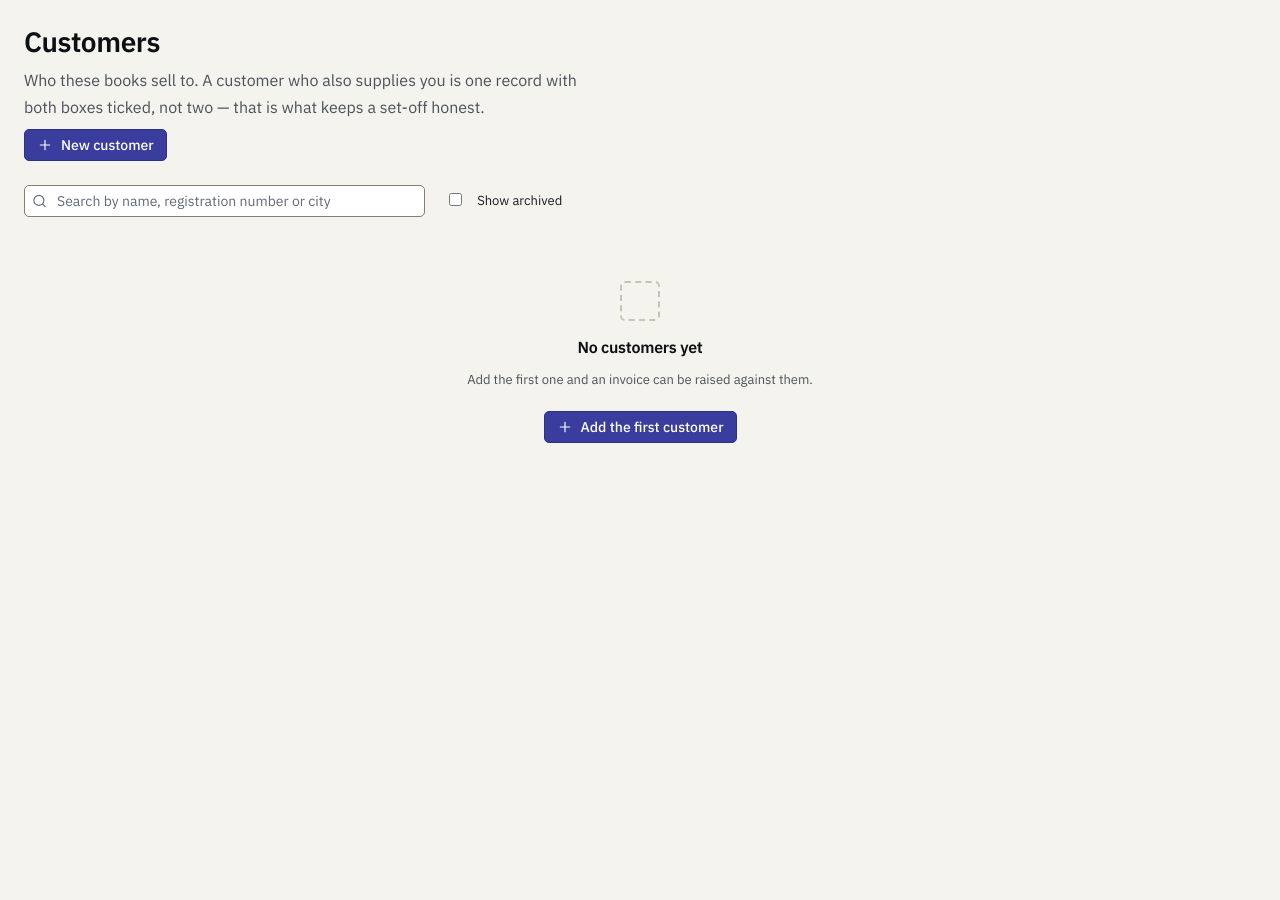
Test: adding › shows the reason a registration number was refused, and keeps the form
The width and height of the screenshot is (1280, 900).
Check: the heading "No customers yet" is shown, box top-left (577, 337), bottom-right (703, 357)
Click the button "New customer".
click(95, 145)  # box top-left (24, 129), bottom-right (167, 161)
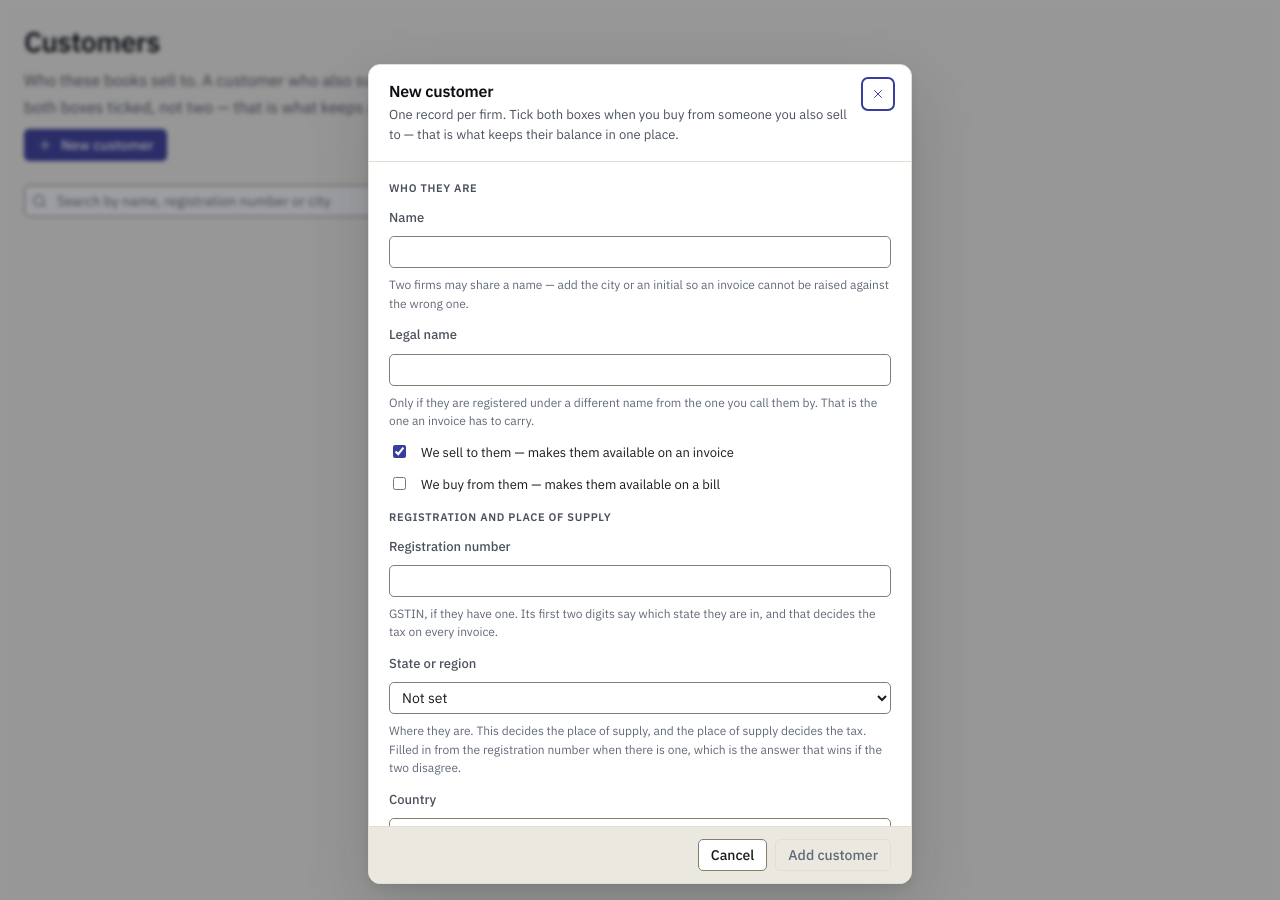
Type "Bharat Steel" into the field labelled "Name".
click(640, 252); type("Bharat Steel")  # box top-left (389, 236), bottom-right (891, 268)
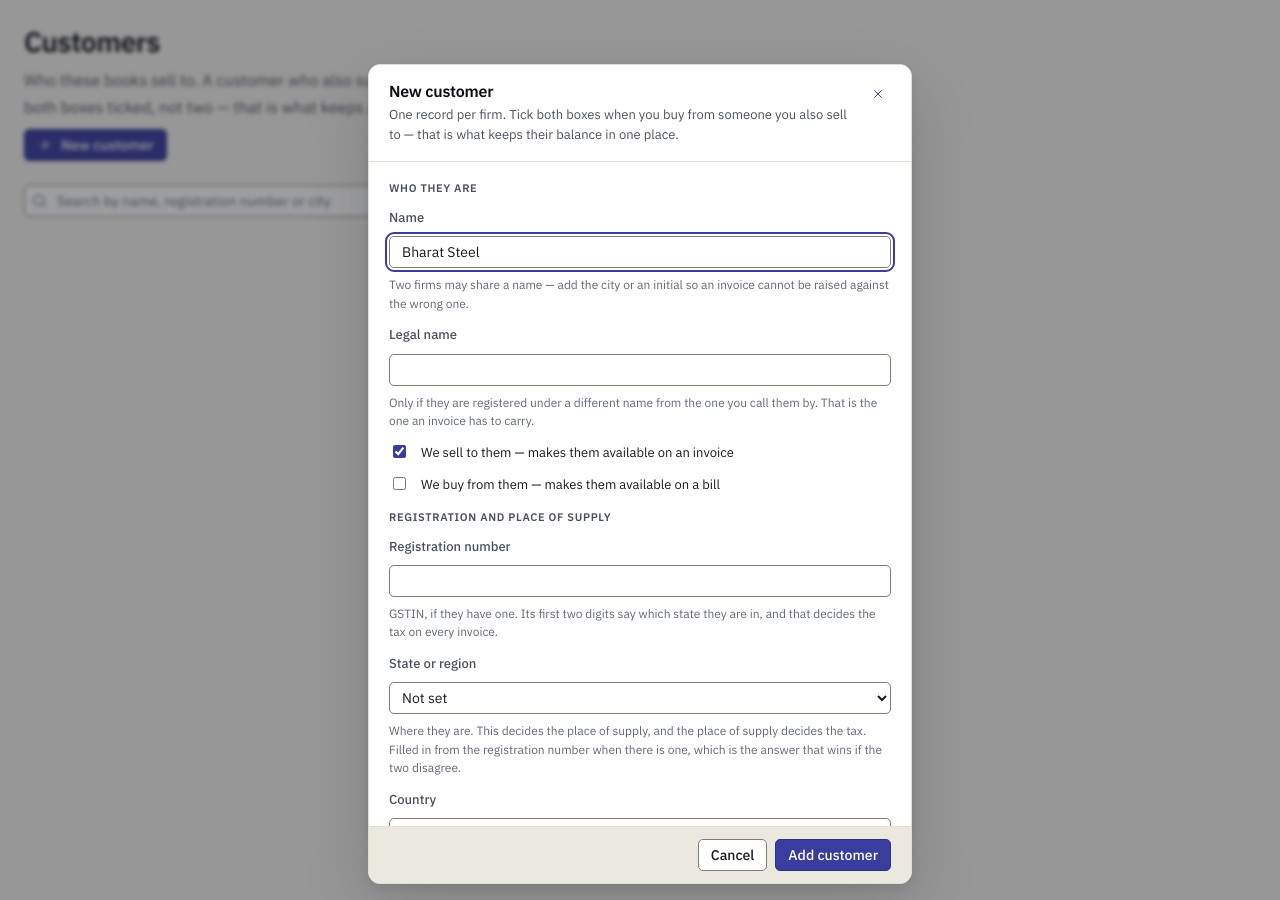
Type "33AABCC1234D1ZZ" into the field labelled "Registration number".
click(640, 581); type("33AABCC1234D1ZZ")  # box top-left (389, 565), bottom-right (891, 597)
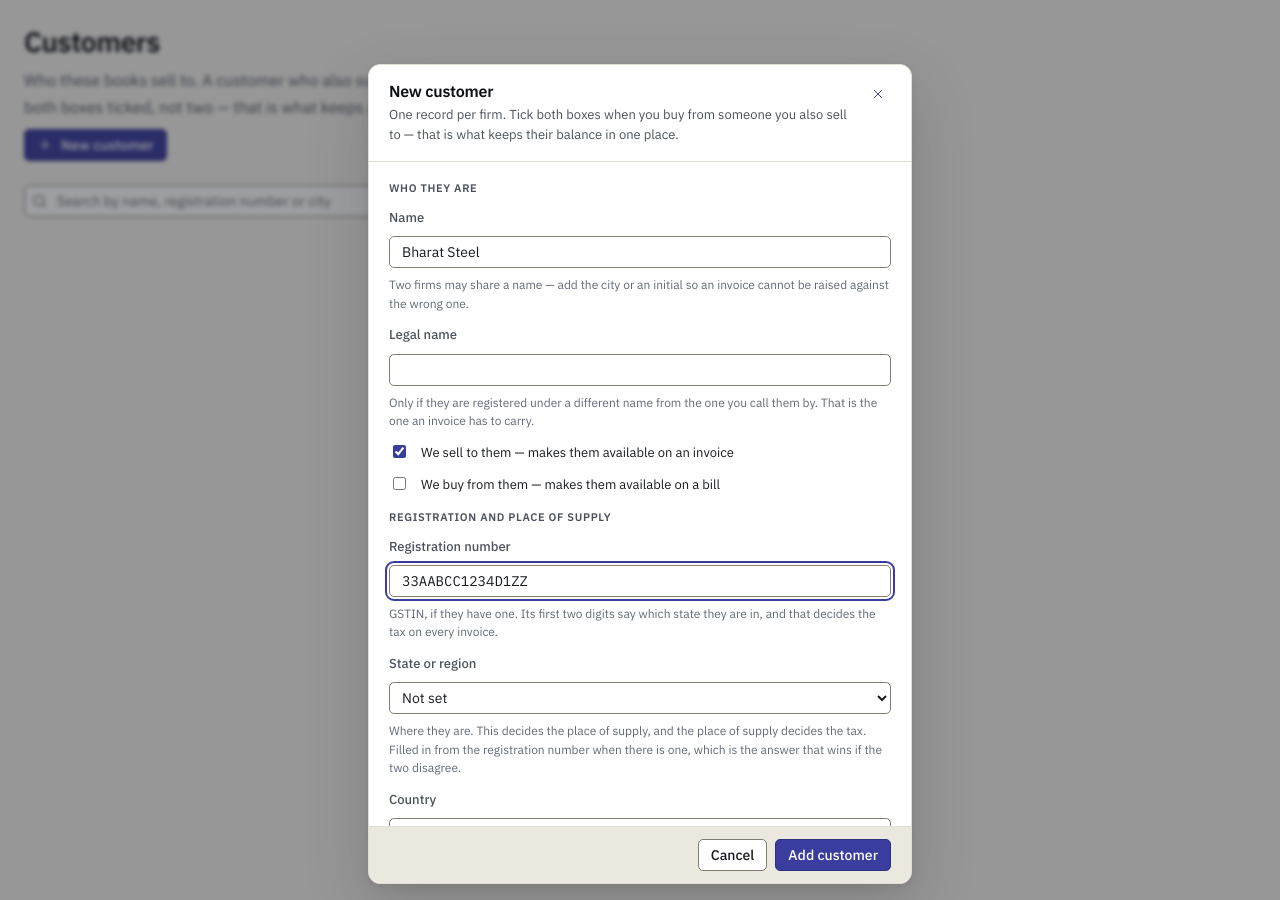
Click the button "Add customer".
click(833, 855)  # box top-left (775, 839), bottom-right (891, 871)
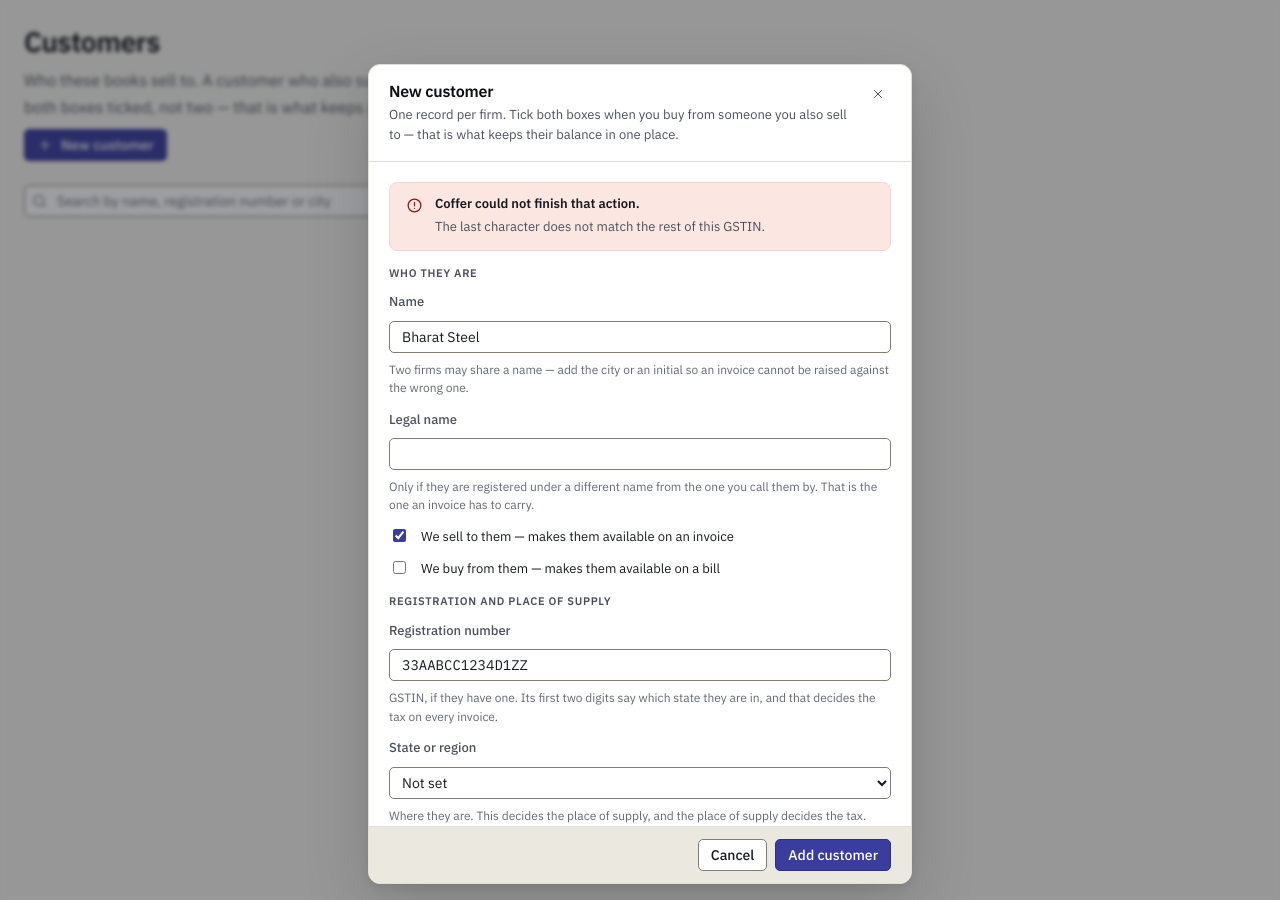
Check: the text "The last character does not match the rest of this GSTIN." is shown, box top-left (435, 218), bottom-right (765, 238)
